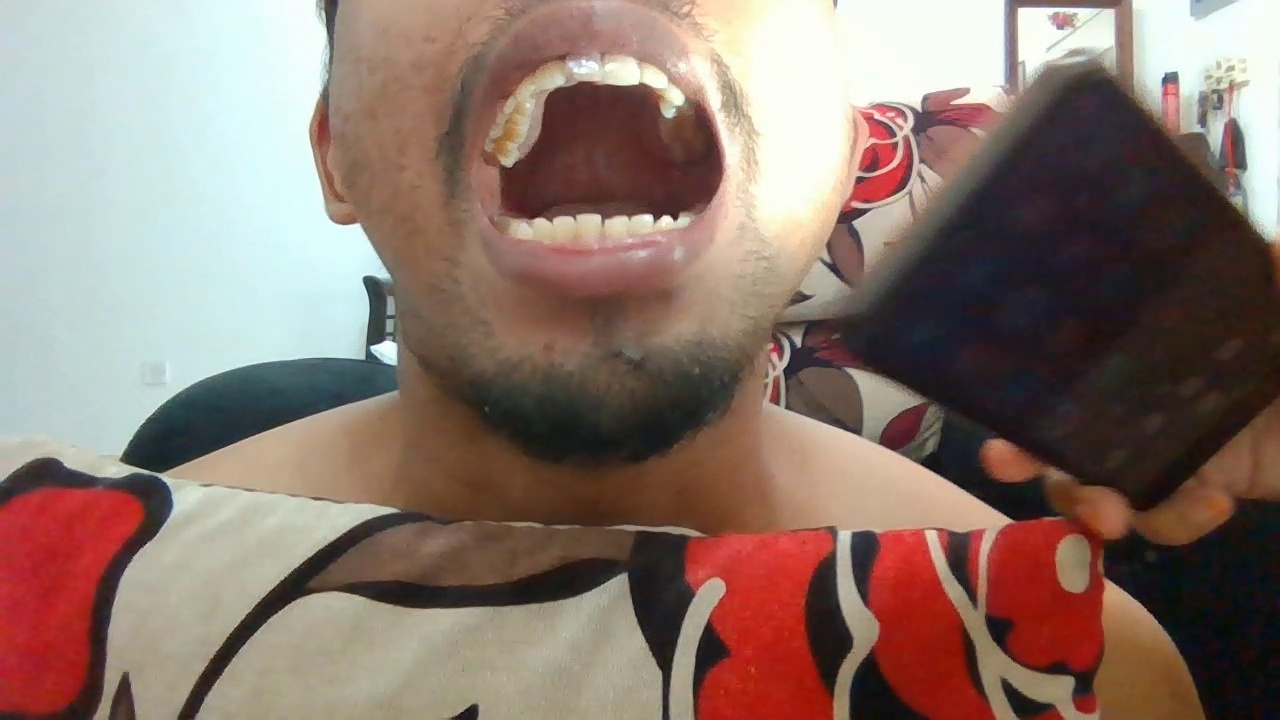1st Molar: (488, 125, 527, 142)
1st Premolar: (504, 95, 536, 112), (660, 102, 696, 117), (515, 223, 532, 240), (674, 217, 691, 229)
2nd Molar: (483, 138, 519, 154)
2nd Premolar: (496, 111, 531, 127)
Canine: (659, 81, 687, 106), (531, 216, 553, 242), (517, 75, 536, 102), (654, 214, 674, 232)
Central Incisor: (602, 54, 641, 88), (564, 51, 602, 80), (575, 213, 603, 244), (602, 215, 630, 241)
Lateral Incisor: (536, 61, 564, 89), (641, 60, 668, 88), (553, 214, 575, 242), (630, 213, 654, 236)
